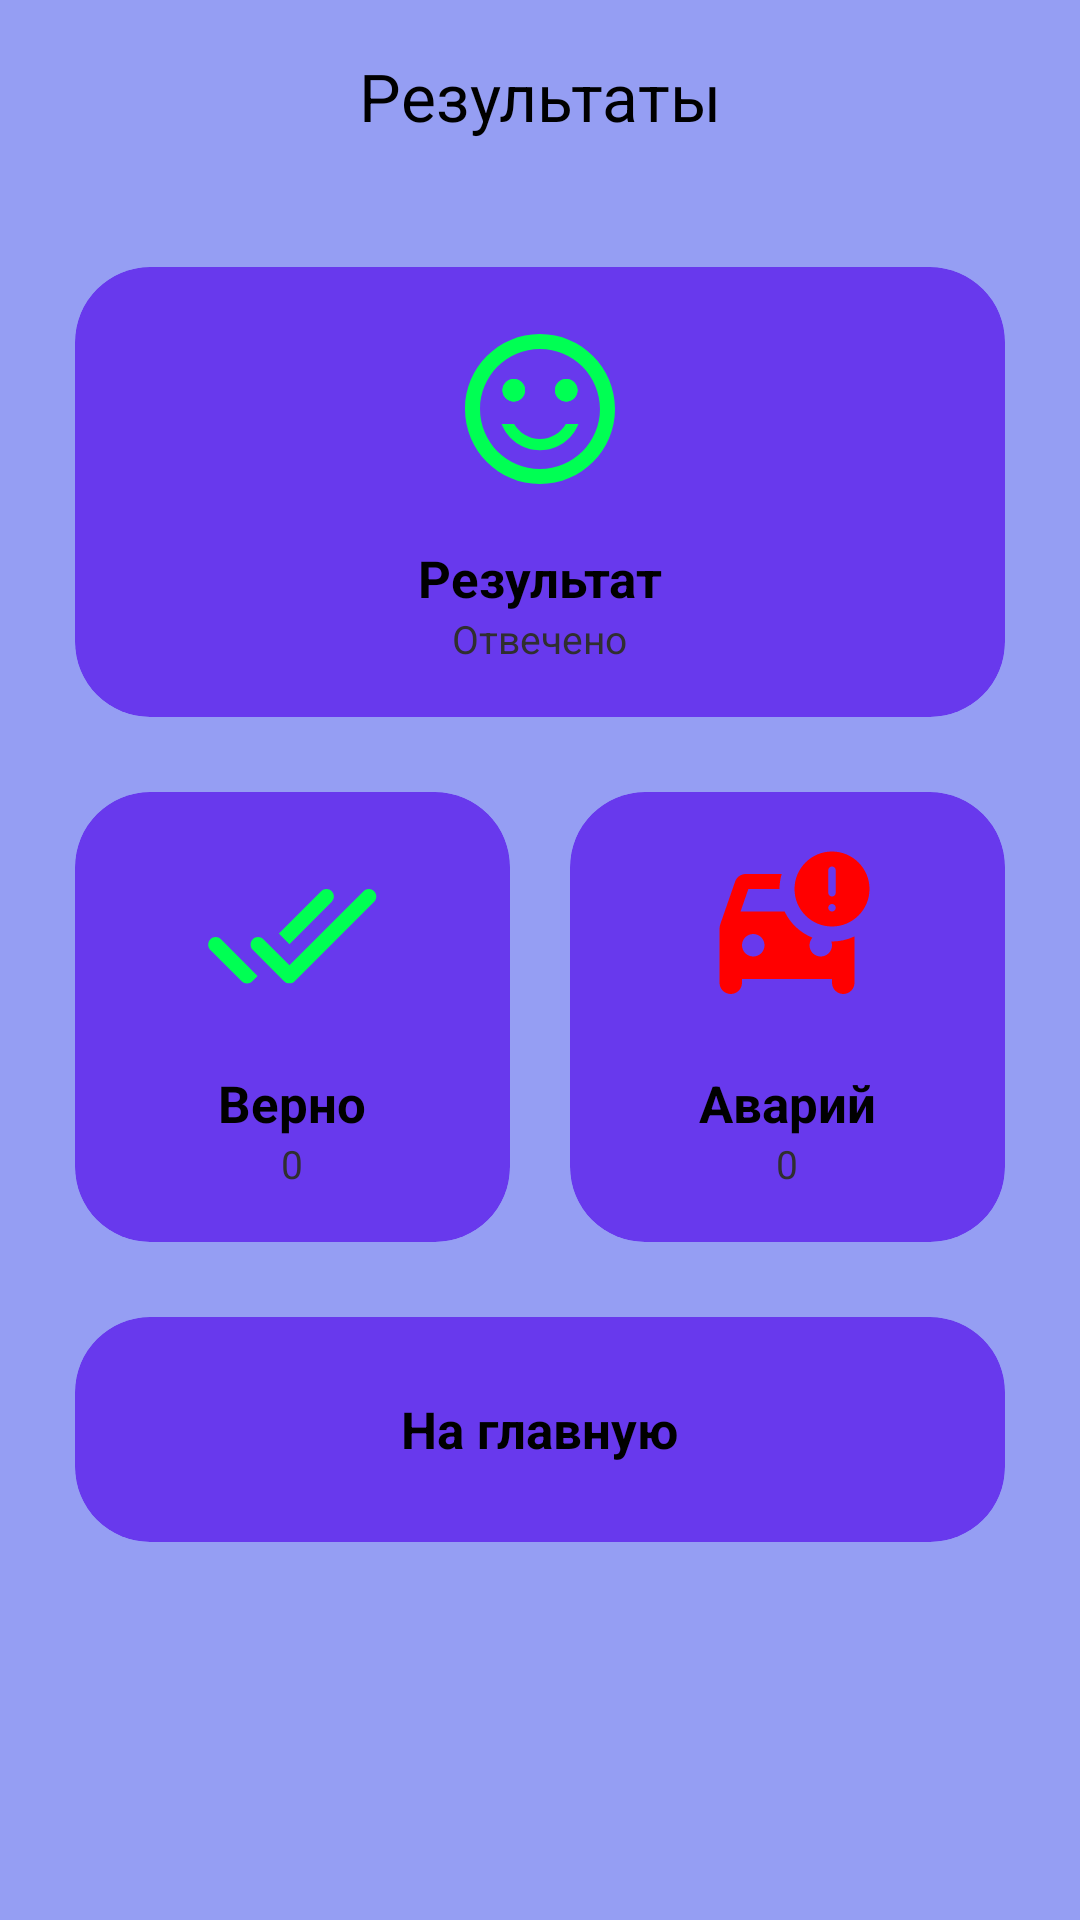

Where icons sit on this 1080 x 1920 app screen, as (x1, y1, x2, y2):
correct: (208, 889, 377, 984)
smile: (465, 334, 615, 484)
